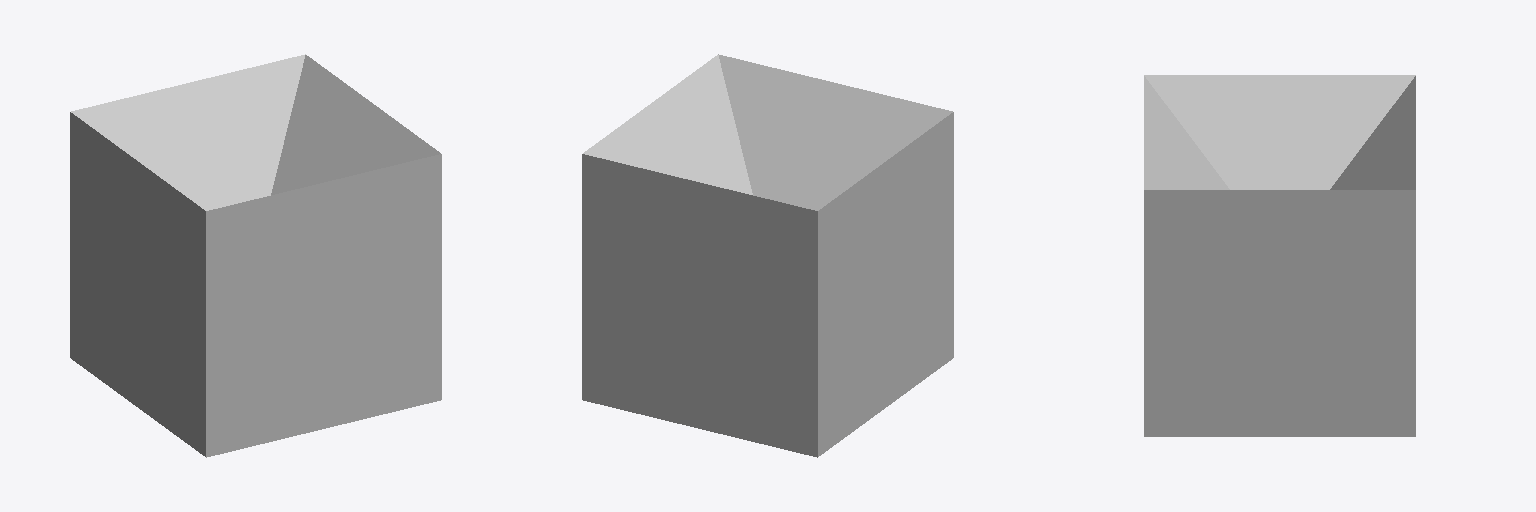
Rendered from invertedpyramid.obj.
3 views of the same model, side by side, from view 1: azimuth 30°, elevation 25°; view 2: azimuth 150°, elevation 25°; view 3: azimuth 270°, elevation 25° (orthographic).
Parts seen in each view (by area): view 1: Cube; view 2: Cube; view 3: Cube.
Boxes of the visible parts, x1=… form: Cube: x1=70, y1=54, x2=441, y2=457; Cube: x1=582, y1=54, x2=953, y2=457; Cube: x1=1144, y1=75, x2=1415, y2=436.
Bounding box in the file's own units: 1 × 1 × 1.